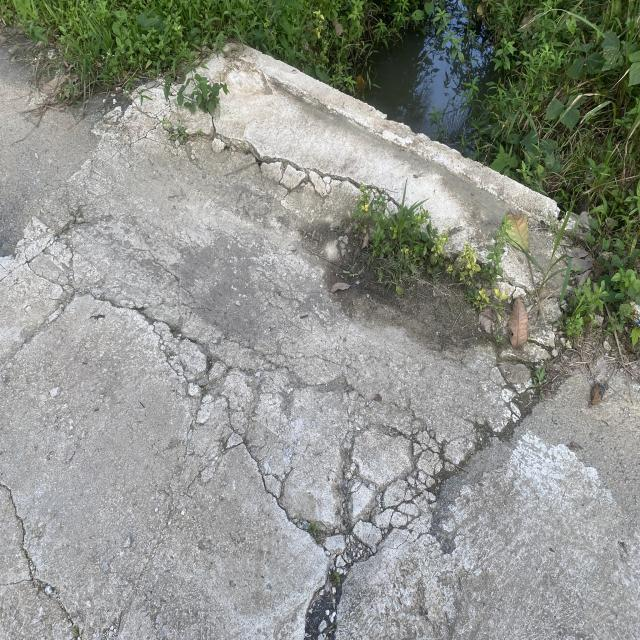pothole: (67, 246, 402, 640), (188, 96, 368, 236)
